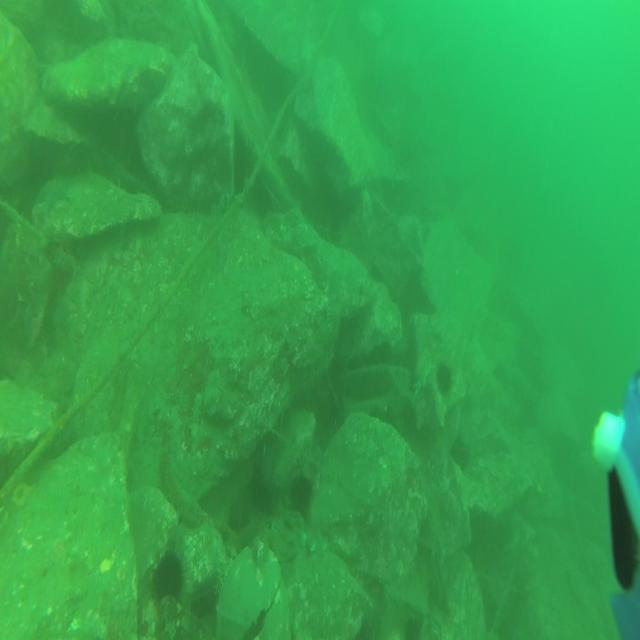echinus: (149, 547, 187, 606), (288, 469, 314, 521), (434, 357, 454, 400)
